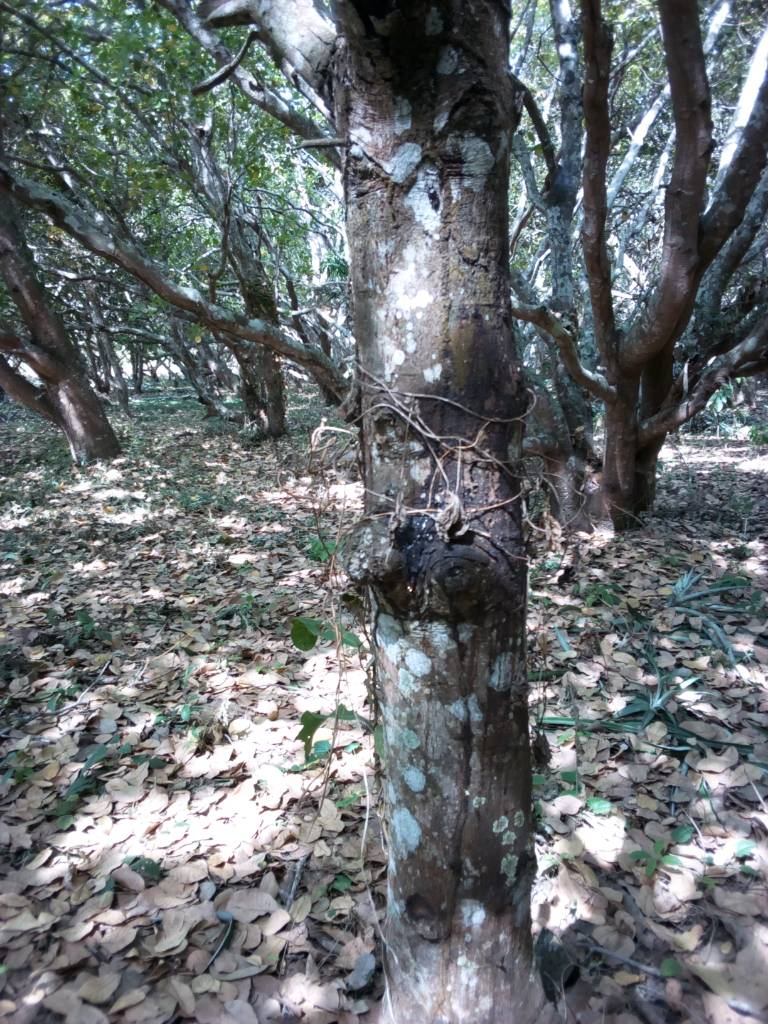Termites: (416, 128, 519, 402)
